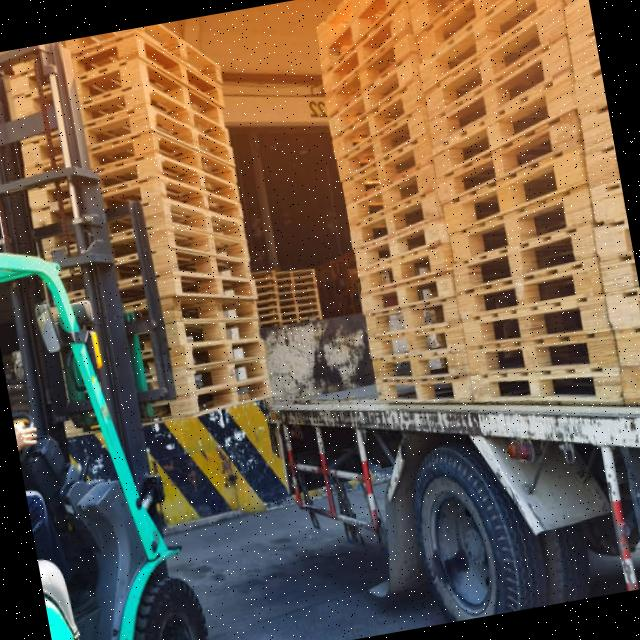Wooden-Pallets: (423, 0, 570, 114), (449, 180, 588, 265), (467, 324, 624, 378), (319, 3, 407, 96), (339, 132, 436, 205), (347, 238, 444, 294), (359, 342, 469, 387)
